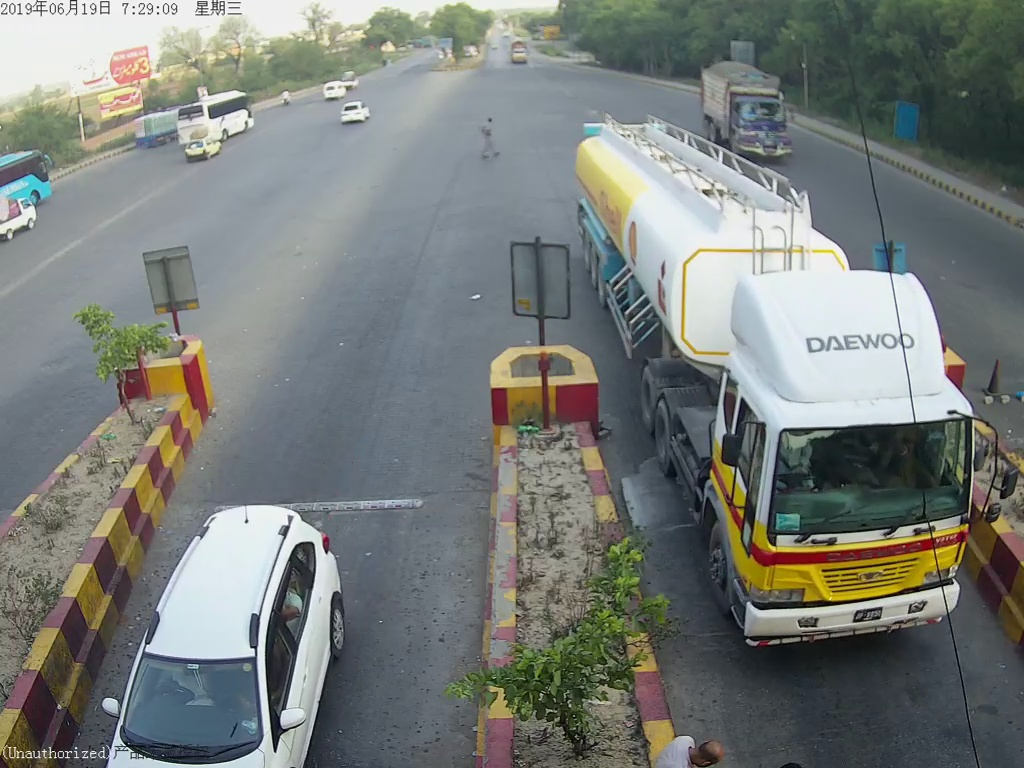Cat-1: (146, 503, 353, 736)
Cat-5: (571, 114, 993, 655)
